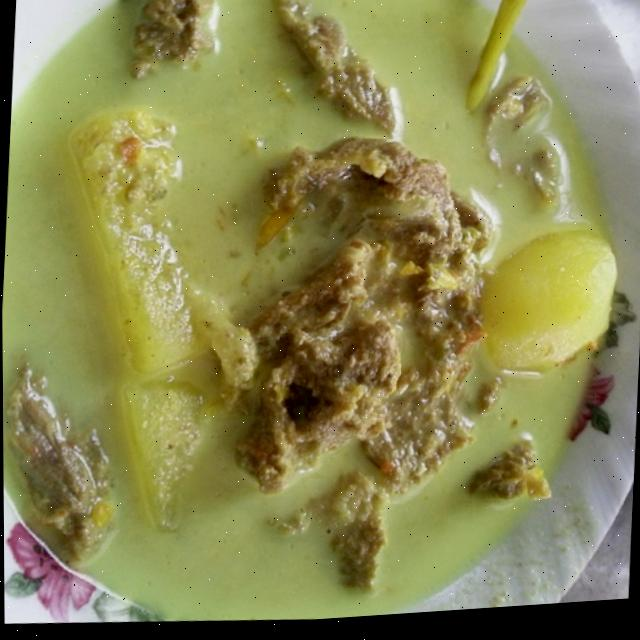熟制海鲜: (0, 0, 635, 640)
